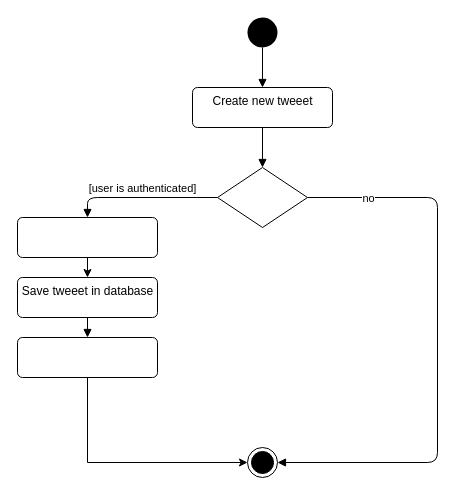
This 463x495 diagram has some shape labels left out. The centre of each missing label's shape, as x and y in pixels:
Get text of the tweeet: point (87, 237)
Increment quantity: point (87, 357)
